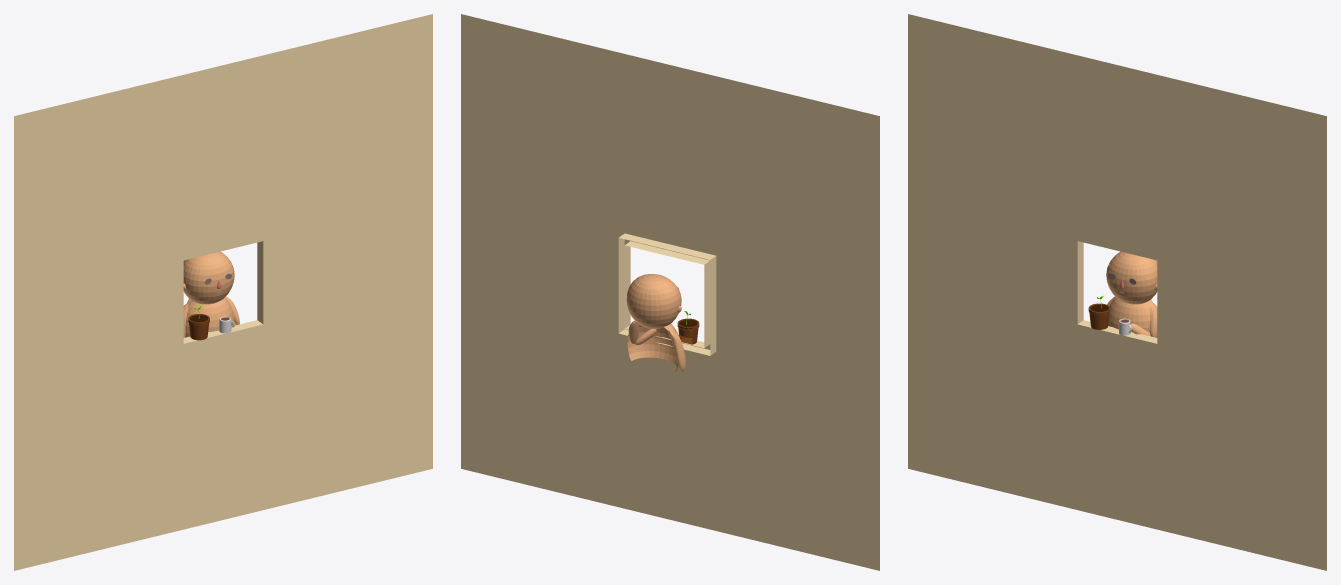
Rendered from maru.glb.
3 renders of one model, left to right at view 1: azimuth 30°, elevation 25°; view 2: azimuth 150°, elevation 25°; view 3: azimuth 330°, elevation 25°, orthographic.
Visible parts, largest first — view 1: wall, frame, head bottom, body, head top; view 2: wall, frame, head bottom, body, head top; view 3: wall, head bottom, frame, body, head top.
Boxes of the visible parts, x1,y1,x2,y2 form: wall: [14, 14, 432, 570]; frame: [177, 233, 269, 351]; head bottom: [183, 264, 234, 304]; body: [185, 297, 234, 337]; head top: [183, 251, 231, 275]; wall: [461, 14, 879, 570]; frame: [618, 233, 716, 355]; head bottom: [626, 289, 681, 328]; body: [627, 324, 679, 371]; head top: [628, 274, 678, 300]; wall: [908, 14, 1326, 570]; head bottom: [1106, 262, 1157, 304]; frame: [1076, 241, 1163, 346]; body: [1108, 297, 1157, 337]; head top: [1109, 251, 1157, 275].
Bounding box in the file's own units: 32.91 × 34.16 × 4.35.
